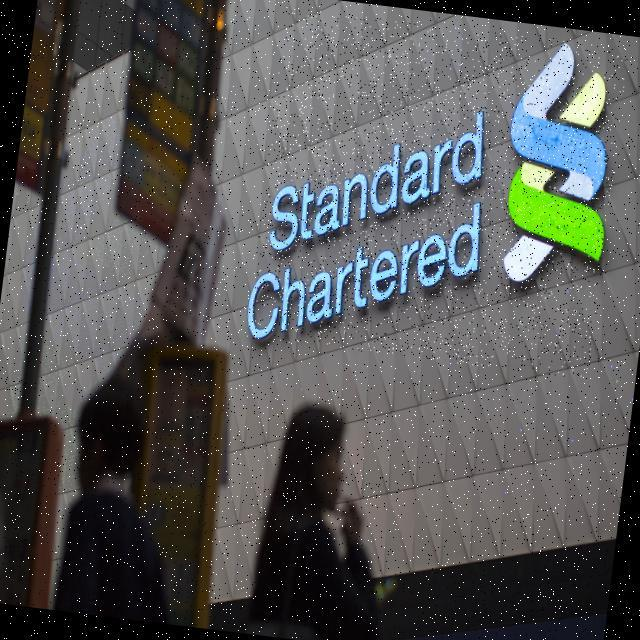Standard Chartered: (246, 7, 629, 379)
